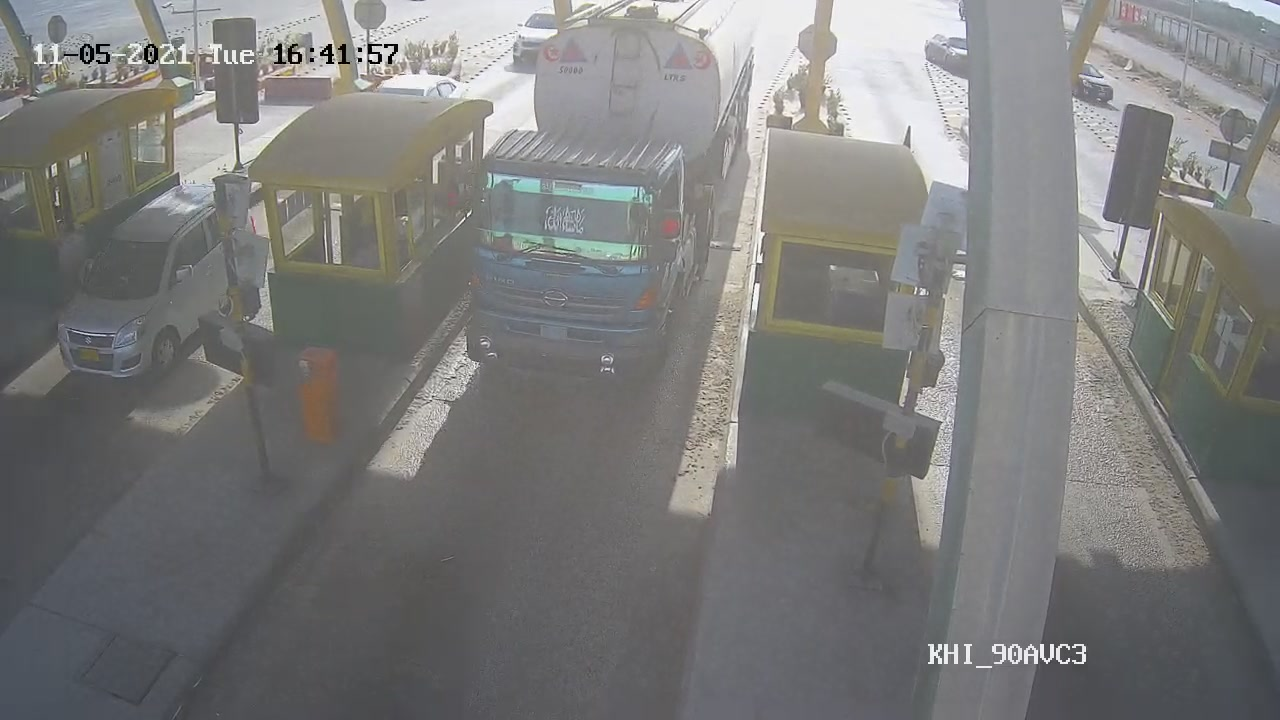F6: (458, 1, 764, 373)
